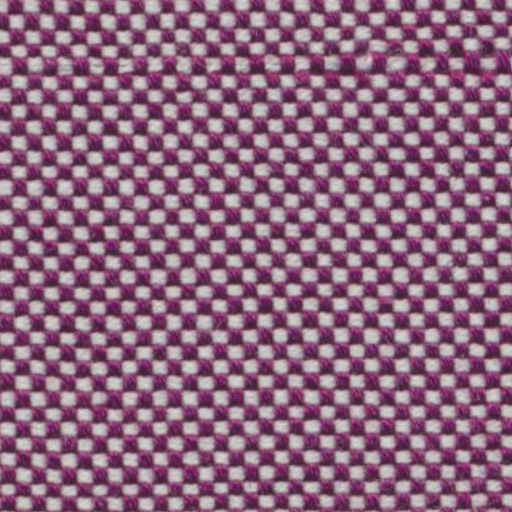TuoSha: (14, 26, 498, 120)
